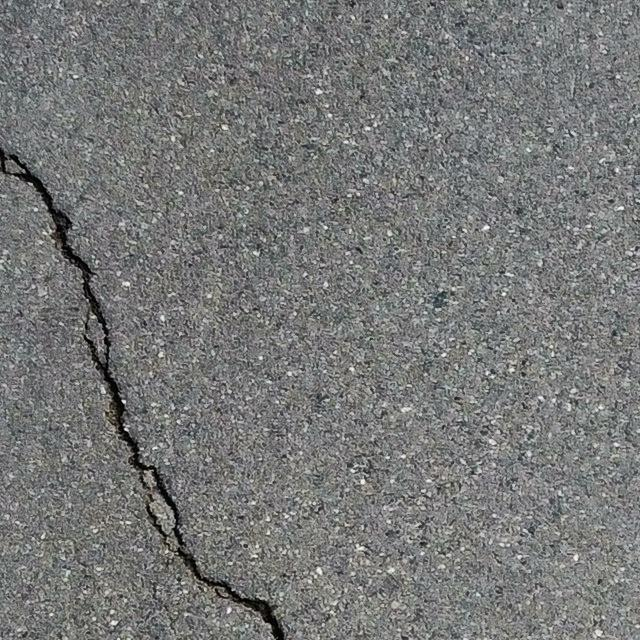LongitudinalCrack: (1, 149, 285, 640)
